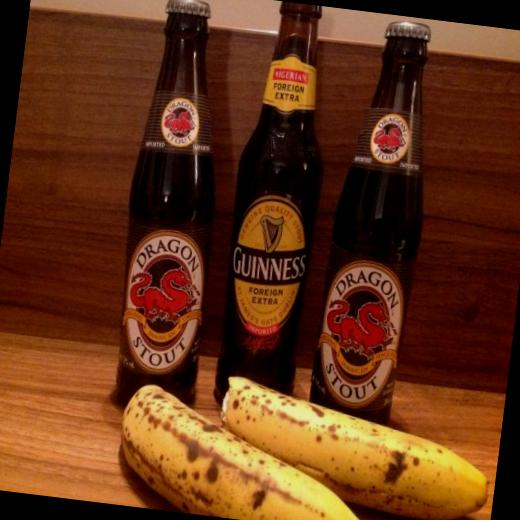Banana: (111, 383, 382, 520)
